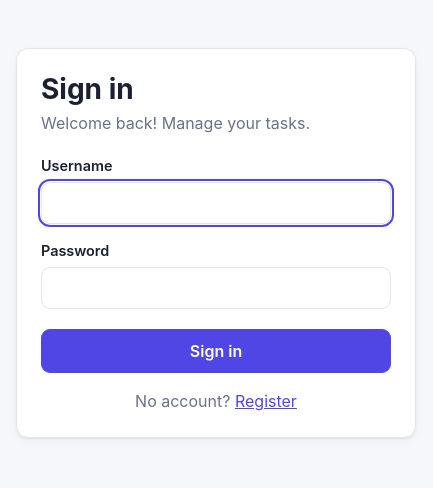
App › shows the API error for wrong credentials
Type "alice" into the field labelled "Username".
click(216, 203); type("alice")  # box [41, 182, 391, 224]
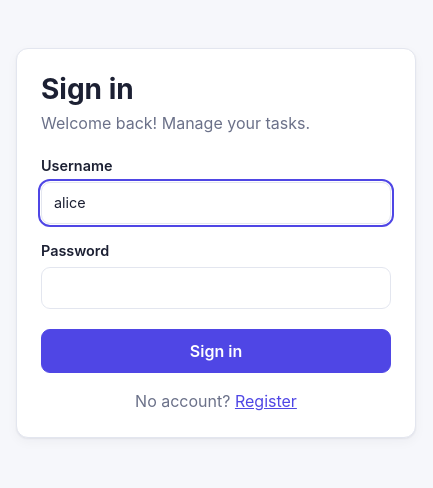
Type "wrong" into the password field labelled "Password".
click(216, 288); type("wrong")  # box [41, 267, 391, 309]
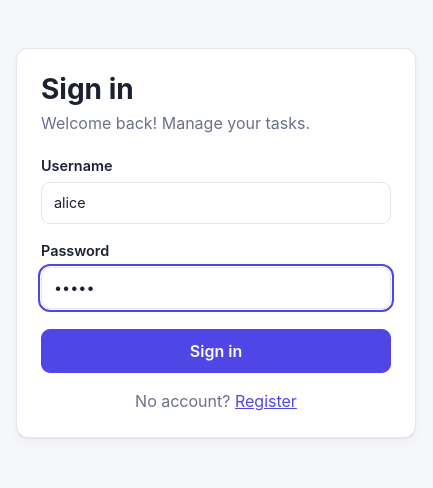
Click the button "Sign in".
click(216, 351)  # box [41, 329, 391, 373]
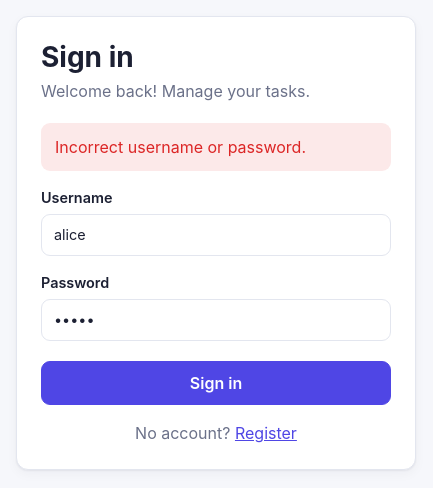
Expected: the message reads "Incorrect username or password.", [55, 137, 306, 157]
